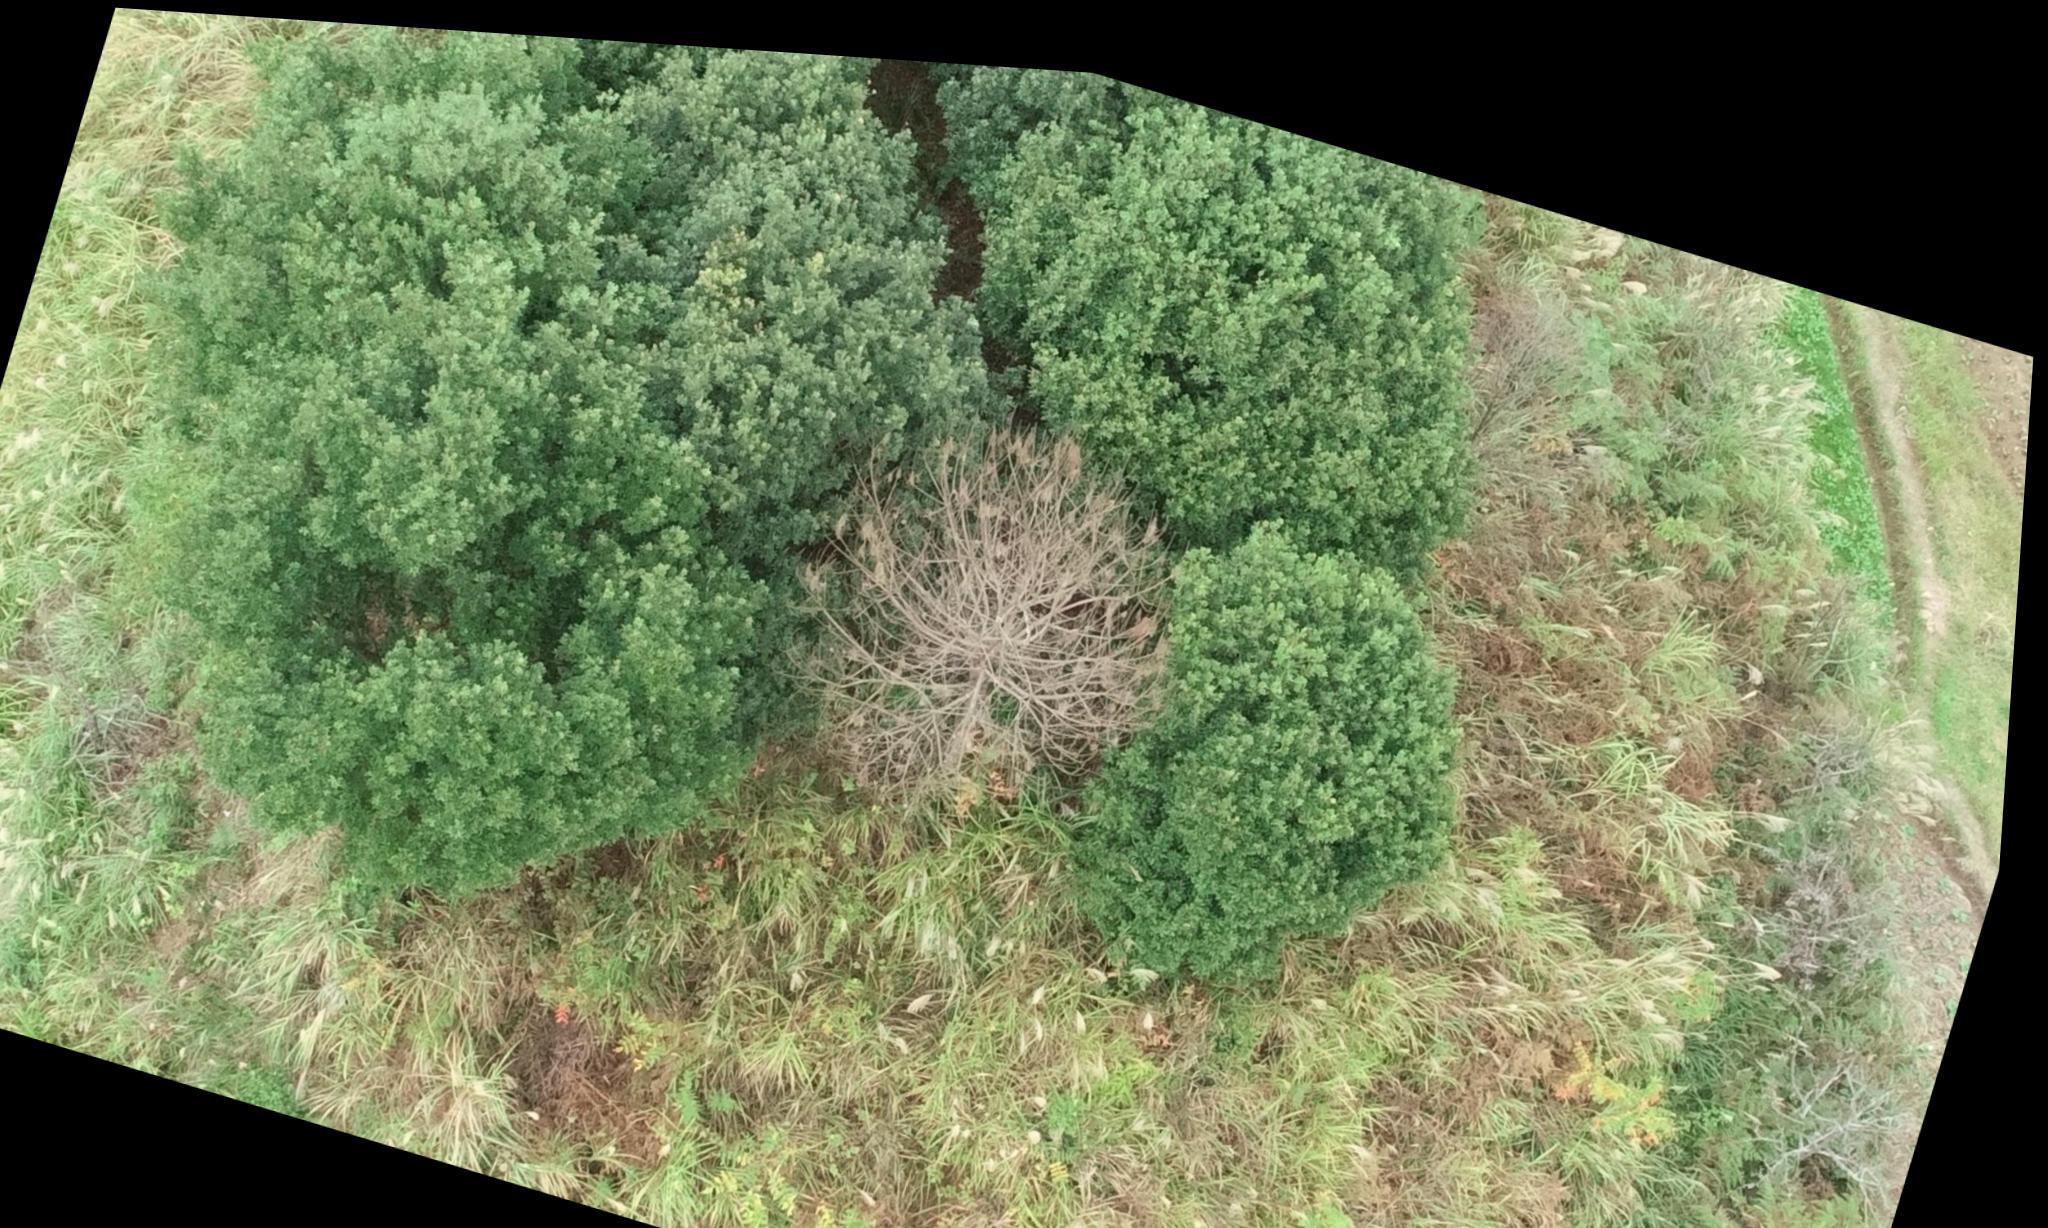dead: (756, 352, 1235, 873)
